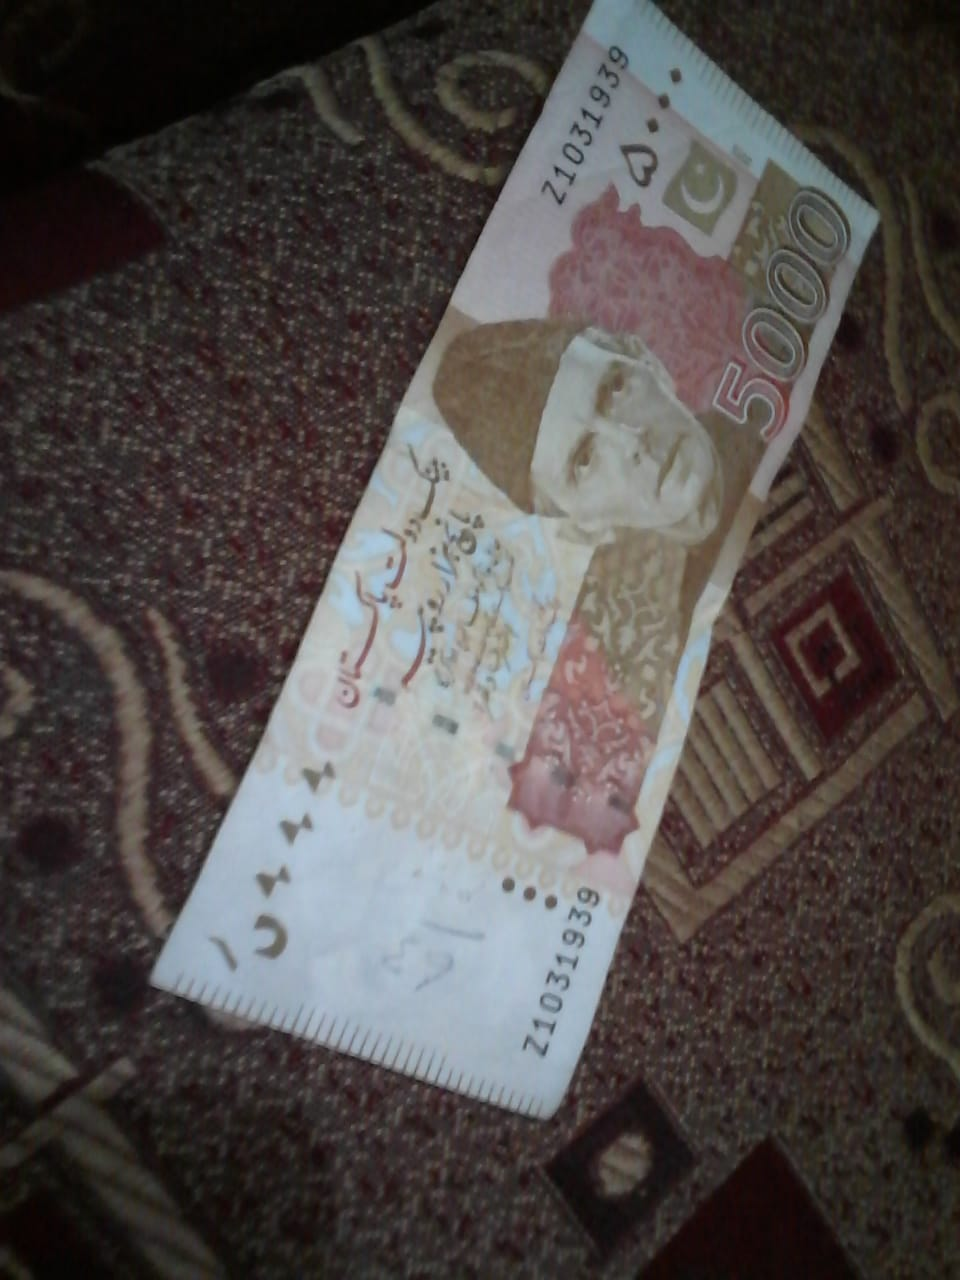5000 rupee: (142, 27, 905, 1103)
